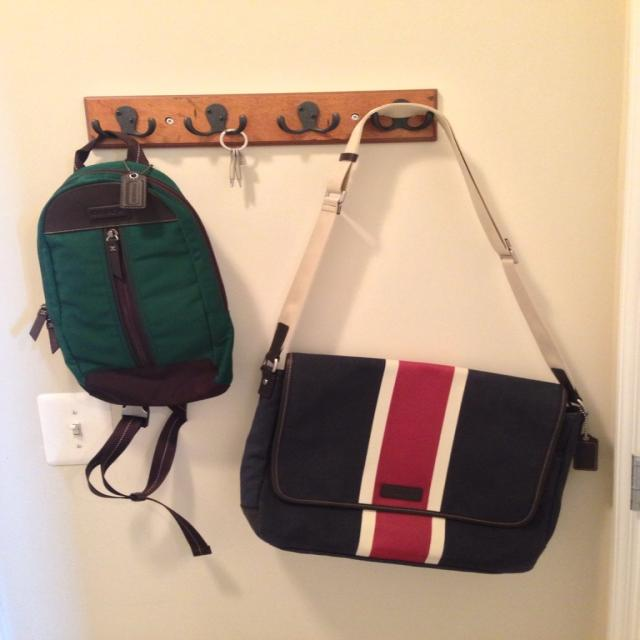backpack: (235, 338, 586, 578), (57, 125, 214, 426)
